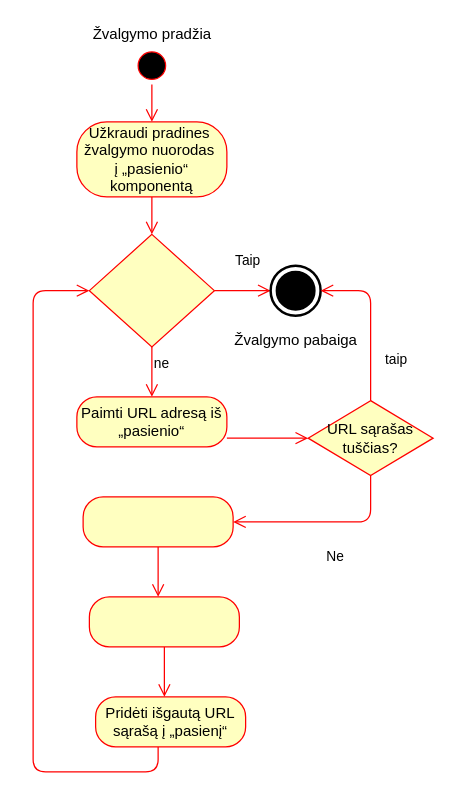
This 455x806 diagram has some shape labels left out. Each missing label, with the centre of its shape:
Išnagrinėti dokumentą: pixel 163 621
Parsiųsti dokumentą: pixel 157 521
Programos stabdymas?: pixel 151 290
